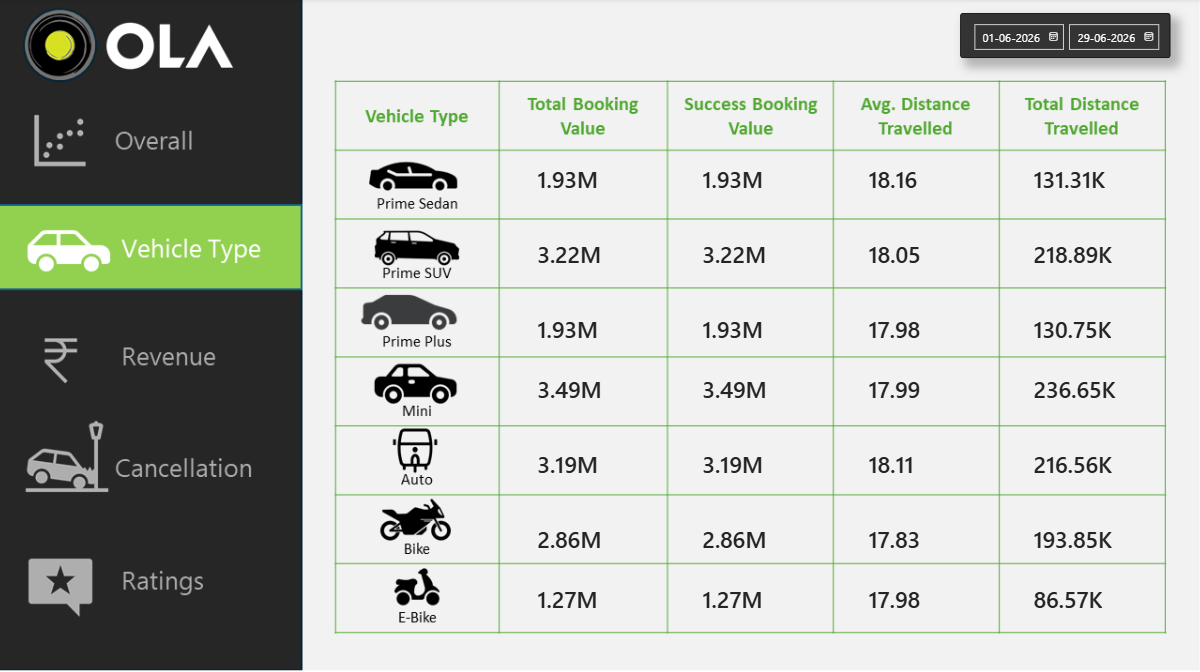

What the dashboard file says about the page in this screenshot:
{"tool":"powerbi","page":{"name":"Vehicle Type","canvas":[1280,720],"ordinal":1},"visuals":[{"type":"actionButton","box":[0,336,320,96],"z":0},{"type":"actionButton","box":[0,96,320,96],"z":1000},{"type":"actionButton","box":[0,336,320,96],"z":2000},{"type":"actionButton","box":[0,448,320,96],"z":3000},{"type":"actionButton","box":[0,576,320,96],"z":4000},{"type":"cardVisual","fields":{"Data":["Sum(bengaluru_ride_bookings.booking_value)"]},"box":[544,384,160,64],"z":5000},{"type":"cardVisual","fields":{"Data":["Sum(bengaluru_ride_bookings.booking_value)"]},"box":[544,608,160,64],"z":6000},{"type":"cardVisual","fields":{"Data":["Sum(bengaluru_ride_bookings.booking_value)"]},"box":[544,544,160,64],"z":7000},{"type":"cardVisual","fields":{"Data":["Sum(bengaluru_ride_bookings.booking_value)"]},"box":[544,464,160,64],"z":8000},{"type":"cardVisual","fields":{"Data":["Sum(bengaluru_ride_bookings.booking_value)"]},"box":[544,320,160,64],"z":9000},{"type":"cardVisual","fields":{"Data":["Sum(bengaluru_ride_bookings.booking_value)"]},"box":[544,240,160,64],"z":10000},{"type":"cardVisual","fields":{"Data":["Sum(bengaluru_ride_bookings.booking_value)"]},"box":[544,160,160,64],"z":11000},{"type":"cardVisual","fields":{"Data":["Sum(bengaluru_ride_bookings.booking_value)"]},"box":[720,160,160,64],"z":12000},{"type":"cardVisual","fields":{"Data":["Sum(bengaluru_ride_bookings.booking_value)"]},"box":[720,240,160,64],"z":13000},{"type":"cardVisual","fields":{"Data":["Sum(bengaluru_ride_bookings.booking_value)"]},"box":[720,320,160,64],"z":14000},{"type":"cardVisual","fields":{"Data":["Sum(bengaluru_ride_bookings.booking_value)"]},"box":[720,384,160,64],"z":15000},{"type":"cardVisual","fields":{"Data":["Sum(bengaluru_ride_bookings.booking_value)"]},"box":[720,464,160,64],"z":16000},{"type":"cardVisual","fields":{"Data":["Sum(bengaluru_ride_bookings.booking_value)"]},"box":[720,544,160,64],"z":17000},{"type":"cardVisual","fields":{"Data":["Sum(bengaluru_ride_bookings.booking_value)"]},"box":[720,608,160,64],"z":18000},{"type":"cardVisual","fields":{"Data":["Avg(bengaluru_ride_bookings.ride_distance)"]},"box":[896,160,160,64],"z":19000},{"type":"cardVisual","fields":{"Data":["Avg(bengaluru_ride_bookings.ride_distance)"]},"box":[896,240,160,64],"z":20000},{"type":"cardVisual","fields":{"Data":["Avg(bengaluru_ride_bookings.ride_distance)"]},"box":[896,320,160,64],"z":21000},{"type":"cardVisual","fields":{"Data":["Avg(bengaluru_ride_bookings.ride_distance)"]},"box":[896,384,160,64],"z":22000},{"type":"cardVisual","fields":{"Data":["Avg(bengaluru_ride_bookings.ride_distance)"]},"box":[896,464,160,64],"z":23000},{"type":"cardVisual","fields":{"Data":["Avg(bengaluru_ride_bookings.ride_distance)"]},"box":[896,544,160,64],"z":24000},{"type":"cardVisual","fields":{"Data":["Avg(bengaluru_ride_bookings.ride_distance)"]},"box":[896,608,160,64],"z":25000},{"type":"cardVisual","fields":{"Data":["Sum(bengaluru_ride_bookings.ride_distance)"]},"box":[1072,160,160,64],"z":26000},{"type":"cardVisual","fields":{"Data":["Sum(bengaluru_ride_bookings.ride_distance)"]},"box":[1072,240,160,64],"z":27000},{"type":"cardVisual","fields":{"Data":["Sum(bengaluru_ride_bookings.ride_distance)"]},"box":[1072,320,160,64],"z":28000},{"type":"cardVisual","fields":{"Data":["Sum(bengaluru_ride_bookings.ride_distance)"]},"box":[1072,384,160,64],"z":29000},{"type":"cardVisual","fields":{"Data":["Sum(bengaluru_ride_bookings.ride_distance)"]},"box":[1072,464,160,64],"z":30000},{"type":"cardVisual","fields":{"Data":["Sum(bengaluru_ride_bookings.ride_distance)"]},"box":[1072,544,160,64],"z":31000},{"type":"cardVisual","fields":{"Data":["Sum(bengaluru_ride_bookings.ride_distance)"]},"box":[1072,608,160,64],"z":32000},{"type":"slicer","title":"Date","fields":{"Values":["bengaluru_ride_bookings.date"]},"box":[1024,16,224,48],"z":33000}]}

Visuals, with their boxes on the page's 1280x720 design canvas (x1, y1, x2, y2). These are canvas units, not pixel positions in the 1200x672 screenshot, which may show the page scaled, cropped or inside an application window:
actionButton: <region>0, 336, 320, 432</region>
actionButton: <region>0, 96, 320, 192</region>
actionButton: <region>0, 336, 320, 432</region>
actionButton: <region>0, 448, 320, 544</region>
actionButton: <region>0, 576, 320, 672</region>
cardVisual - Sum(bengaluru_ride_bookings.booking_value): <region>544, 384, 704, 448</region>
cardVisual - Sum(bengaluru_ride_bookings.booking_value): <region>544, 608, 704, 672</region>
cardVisual - Sum(bengaluru_ride_bookings.booking_value): <region>544, 544, 704, 608</region>
cardVisual - Sum(bengaluru_ride_bookings.booking_value): <region>544, 464, 704, 528</region>
cardVisual - Sum(bengaluru_ride_bookings.booking_value): <region>544, 320, 704, 384</region>
cardVisual - Sum(bengaluru_ride_bookings.booking_value): <region>544, 240, 704, 304</region>
cardVisual - Sum(bengaluru_ride_bookings.booking_value): <region>544, 160, 704, 224</region>
cardVisual - Sum(bengaluru_ride_bookings.booking_value): <region>720, 160, 880, 224</region>
cardVisual - Sum(bengaluru_ride_bookings.booking_value): <region>720, 240, 880, 304</region>
cardVisual - Sum(bengaluru_ride_bookings.booking_value): <region>720, 320, 880, 384</region>
cardVisual - Sum(bengaluru_ride_bookings.booking_value): <region>720, 384, 880, 448</region>
cardVisual - Sum(bengaluru_ride_bookings.booking_value): <region>720, 464, 880, 528</region>
cardVisual - Sum(bengaluru_ride_bookings.booking_value): <region>720, 544, 880, 608</region>
cardVisual - Sum(bengaluru_ride_bookings.booking_value): <region>720, 608, 880, 672</region>
cardVisual - Avg(bengaluru_ride_bookings.ride_distance): <region>896, 160, 1056, 224</region>
cardVisual - Avg(bengaluru_ride_bookings.ride_distance): <region>896, 240, 1056, 304</region>
cardVisual - Avg(bengaluru_ride_bookings.ride_distance): <region>896, 320, 1056, 384</region>
cardVisual - Avg(bengaluru_ride_bookings.ride_distance): <region>896, 384, 1056, 448</region>
cardVisual - Avg(bengaluru_ride_bookings.ride_distance): <region>896, 464, 1056, 528</region>
cardVisual - Avg(bengaluru_ride_bookings.ride_distance): <region>896, 544, 1056, 608</region>
cardVisual - Avg(bengaluru_ride_bookings.ride_distance): <region>896, 608, 1056, 672</region>
cardVisual - Sum(bengaluru_ride_bookings.ride_distance): <region>1072, 160, 1232, 224</region>
cardVisual - Sum(bengaluru_ride_bookings.ride_distance): <region>1072, 240, 1232, 304</region>
cardVisual - Sum(bengaluru_ride_bookings.ride_distance): <region>1072, 320, 1232, 384</region>
cardVisual - Sum(bengaluru_ride_bookings.ride_distance): <region>1072, 384, 1232, 448</region>
cardVisual - Sum(bengaluru_ride_bookings.ride_distance): <region>1072, 464, 1232, 528</region>
cardVisual - Sum(bengaluru_ride_bookings.ride_distance): <region>1072, 544, 1232, 608</region>
cardVisual - Sum(bengaluru_ride_bookings.ride_distance): <region>1072, 608, 1232, 672</region>
"Date" slicer: <region>1024, 16, 1248, 64</region>
